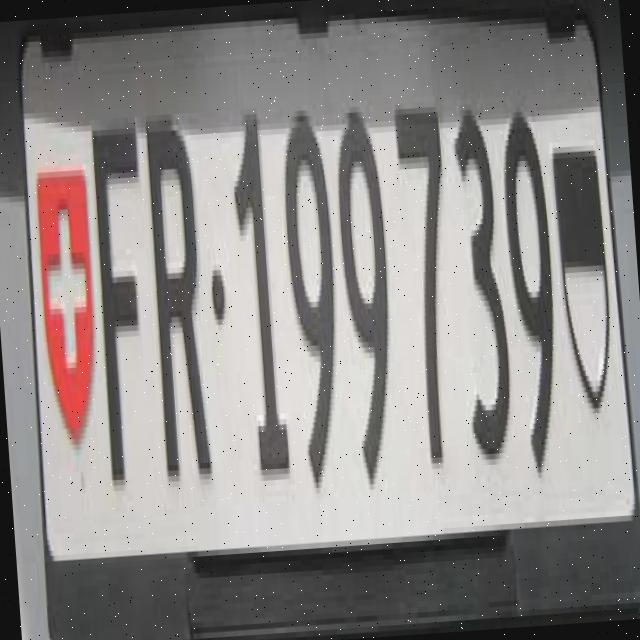Autre: (17, 0, 640, 628)
